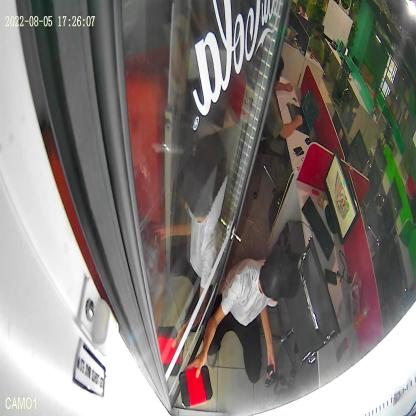red: (179, 364, 213, 408)
